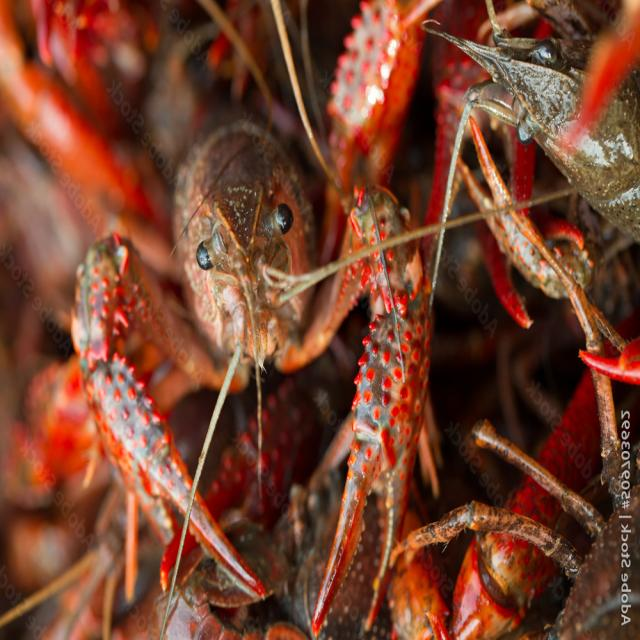Crawfish: (72, 122, 430, 632)
